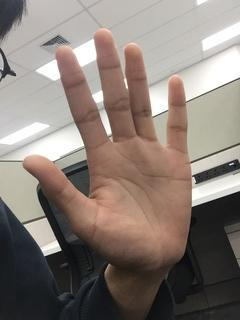hand: (22, 26, 193, 264)
